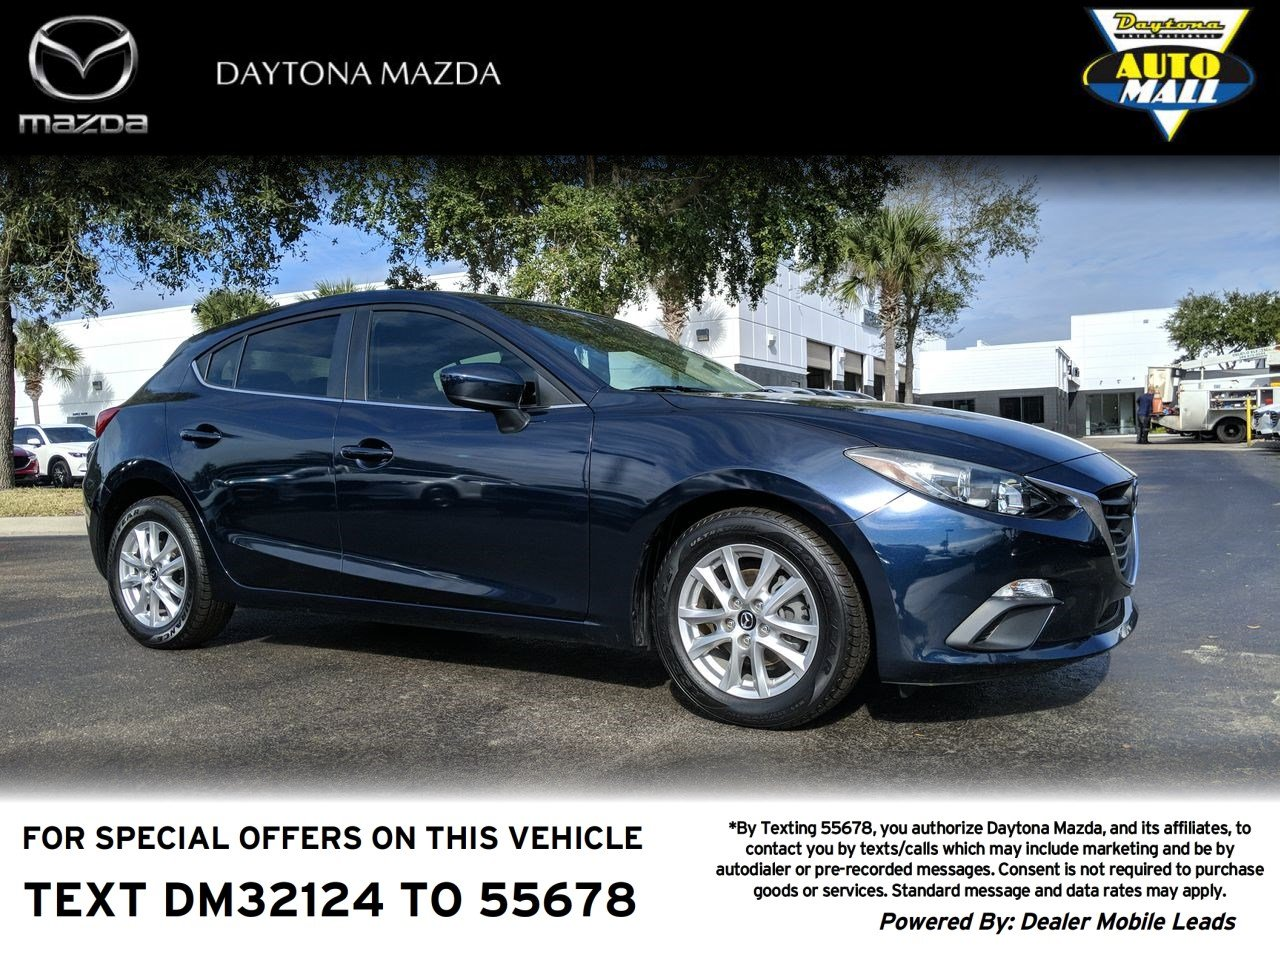Mazda3 Hatchback: (82, 291, 1142, 731)
